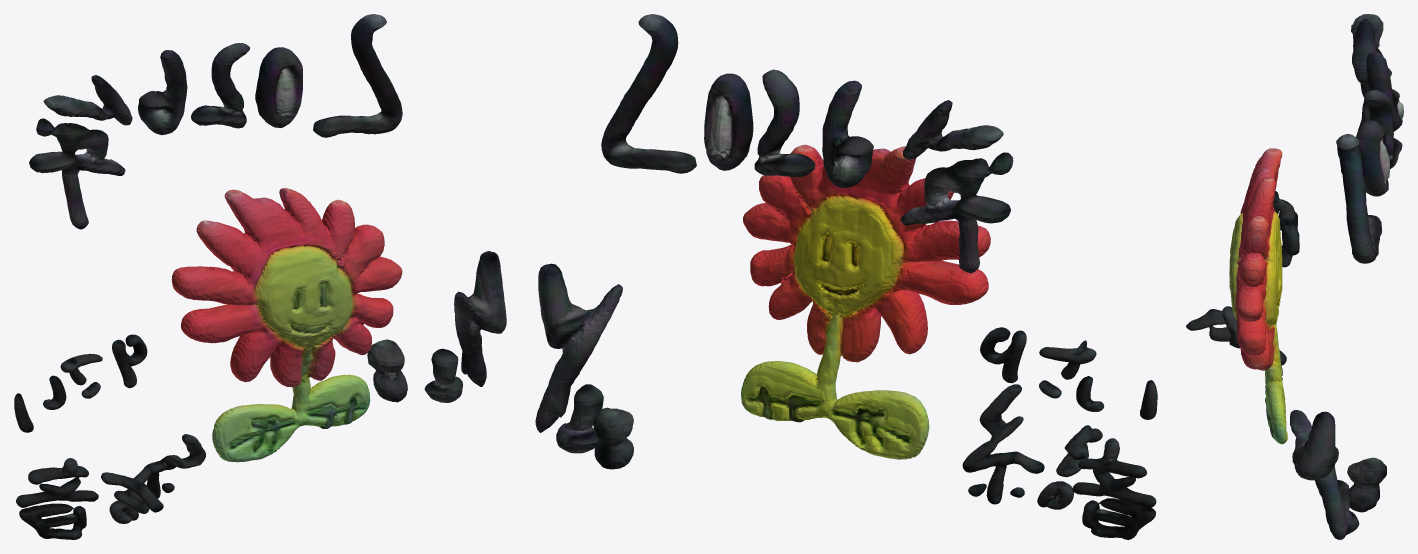
3 views of the same model, side by side, from view 1: azimuth 30°, elevation 25°; view 2: azimuth 150°, elevation 25°; view 3: azimuth 270°, elevation 25° (orthographic). The views are drawn at different scales.
Visible parts, largest first — view 1: world.003; view 2: world.003; view 3: world.003.
Part boxes in pixels (left/top/right/bottom): world.003: left=14, top=14, right=506, bottom=539; world.003: left=535, top=14, right=1157, bottom=539; world.003: left=1186, top=14, right=1403, bottom=539.
Bounding box in the file's own units: 1.99 × 1.5 × 0.8037.
